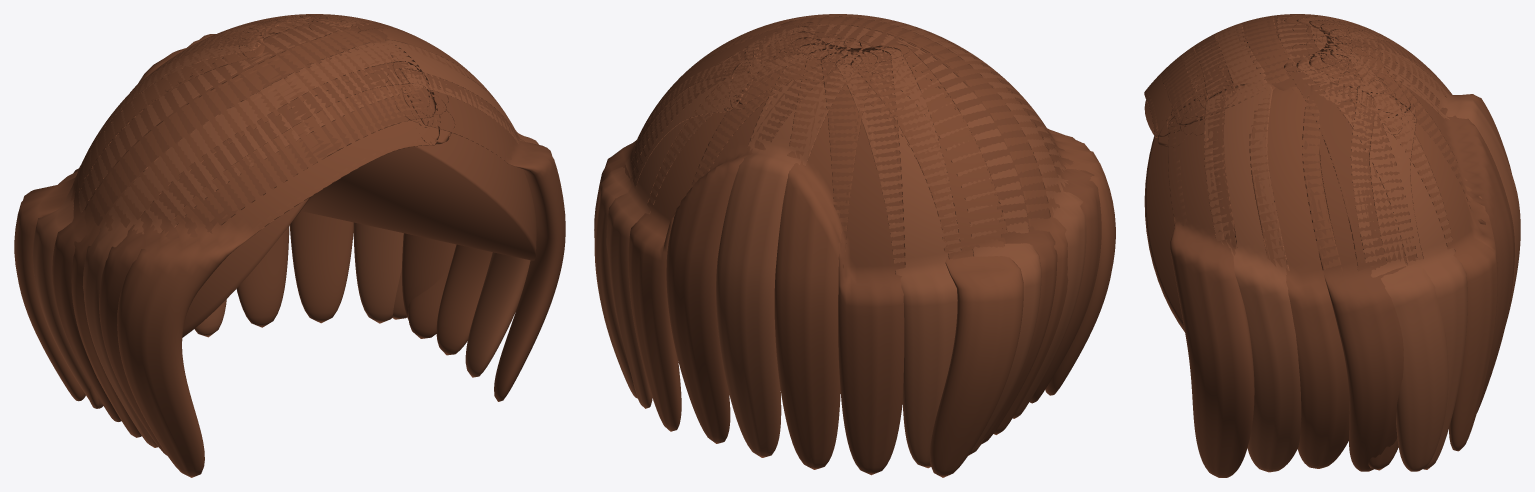
File: Feminine-bob-cap-hair.glb
3 renders of one model, left to right at view 1: azimuth 30°, elevation 25°; view 2: azimuth 150°, elevation 25°; view 3: azimuth 270°, elevation 25°, orthographic. The views are drawn at different scales.
Parts seen in each view (by area): view 1: Hair / Bob / side sweep 0, Recessed roots, Hair / Bob / side sweep 1, Hair / Bob / side sweep 2, Hair / Bob / side sweep 3, Hair / Bob / side sweep 7, Hair / Bob / side sweep 4, Hair / Bob / side sweep 8, Hair / Bob / side sweep 5, Hair / Bob / side sweep 15, Hair / Bob / side sweep 6, Hair / Bob / side sweep 9 (+9 smaller); view 2: Hair / Bob / side sweep 19, Hair / Bob / side sweep 18, Hair / Bob / side sweep 17, Hair / Bob / side sweep 20, Hair / Bob / side sweep 6, Hair / Bob / side sweep 16, Hair / Bob / side sweep 15, Hair / Bob / side sweep 4, Hair / Bob / side sweep 21, Hair / Bob / side sweep 5, Hair / Bob / side sweep 14, Hair / Bob / side sweep 3 (+7 smaller); view 3: Hair / Bob / side sweep 7, Hair / Bob / side sweep 9, Hair / Bob / side sweep 8, Hair / Bob / side sweep 10, Hair / Bob / side sweep 11, Hair / Bob / side sweep 15, Hair / Bob / side sweep 14, Hair / Bob / side sweep 16, Hair / Bob / side sweep 13, Hair / Bob / side sweep 17, Recessed roots, Hair / Bob / side sweep 1 (+10 smaller).
Boxes of the visible parts, bbox=[...] form: Hair / Bob / side sweep 0: bbox=[117, 83, 455, 477]; Recessed roots: bbox=[182, 133, 536, 337]; Hair / Bob / side sweep 1: bbox=[99, 61, 448, 455]; Hair / Bob / side sweep 2: bbox=[82, 41, 427, 447]; Hair / Bob / side sweep 3: bbox=[71, 27, 403, 437]; Hair / Bob / side sweep 7: bbox=[386, 68, 565, 401]; Hair / Bob / side sweep 4: bbox=[52, 17, 387, 421]; Hair / Bob / side sweep 8: bbox=[385, 39, 538, 377]; Hair / Bob / side sweep 5: bbox=[32, 14, 372, 408]; Hair / Bob / side sweep 15: bbox=[269, 14, 353, 323]; Hair / Bob / side sweep 6: bbox=[14, 14, 346, 401]; Hair / Bob / side sweep 9: bbox=[377, 25, 497, 355]; Hair / Bob / side sweep 19: bbox=[820, 41, 905, 475]; Hair / Bob / side sweep 18: bbox=[774, 42, 877, 469]; Hair / Bob / side sweep 17: bbox=[716, 42, 862, 457]; Hair / Bob / side sweep 20: bbox=[834, 38, 961, 468]; Hair / Bob / side sweep 6: bbox=[708, 37, 1023, 477]; Hair / Bob / side sweep 16: bbox=[666, 37, 852, 443]; Hair / Bob / side sweep 15: bbox=[628, 31, 846, 431]; Hair / Bob / side sweep 4: bbox=[774, 16, 1057, 444]; Hair / Bob / side sweep 21: bbox=[850, 35, 1007, 455]; Hair / Bob / side sweep 5: bbox=[744, 24, 1041, 454]; Hair / Bob / side sweep 14: bbox=[606, 26, 841, 408]; Hair / Bob / side sweep 3: bbox=[789, 14, 1068, 434]; Hair / Bob / side sweep 7: bbox=[1168, 81, 1254, 477]; Hair / Bob / side sweep 9: bbox=[1249, 86, 1349, 468]; Hair / Bob / side sweep 8: bbox=[1204, 82, 1301, 472]; Hair / Bob / side sweep 10: bbox=[1302, 81, 1403, 471]; Hair / Bob / side sweep 11: bbox=[1350, 77, 1448, 471]; Hair / Bob / side sweep 15: bbox=[1309, 36, 1497, 451]; Hair / Bob / side sweep 14: bbox=[1296, 39, 1467, 469]; Hair / Bob / side sweep 16: bbox=[1320, 32, 1514, 412]; Hair / Bob / side sweep 13: bbox=[1284, 44, 1417, 470]; Hair / Bob / side sweep 17: bbox=[1326, 29, 1520, 324]; Recessed roots: bbox=[1144, 100, 1184, 331]; Hair / Bob / side sweep 1: bbox=[1160, 33, 1237, 135].
Bounding box in the file's own units: 1.02 × 0.8092 × 0.7549.
